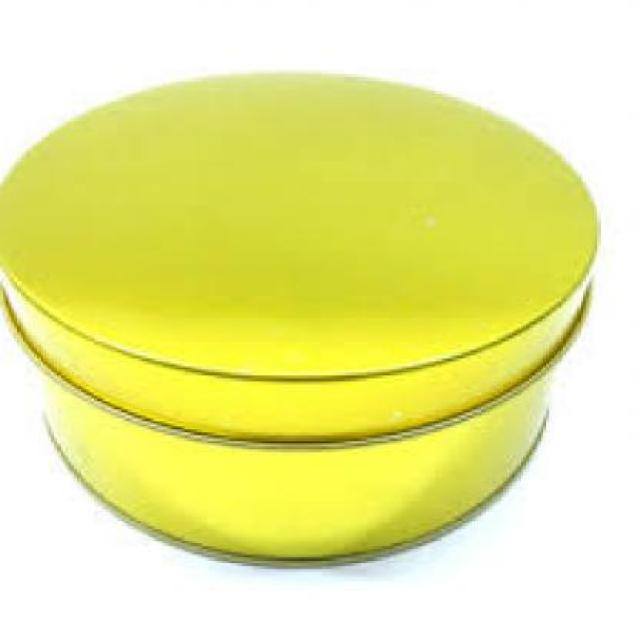METAL: (3, 68, 600, 563)
